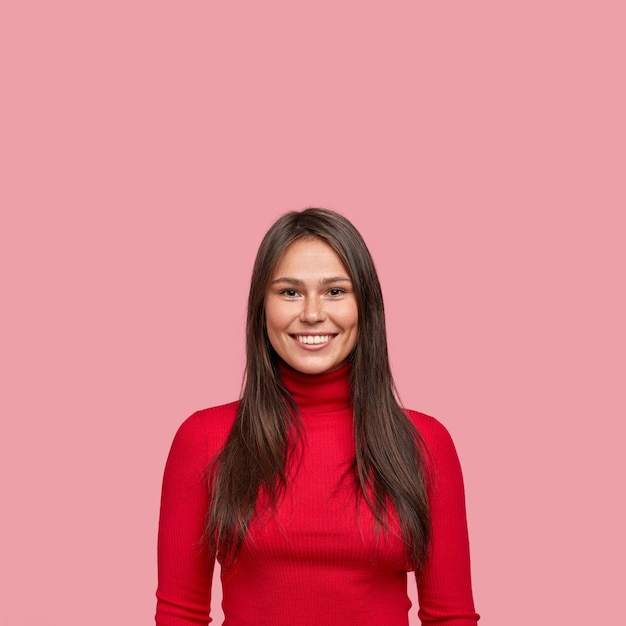teen: (253, 196, 383, 375)
